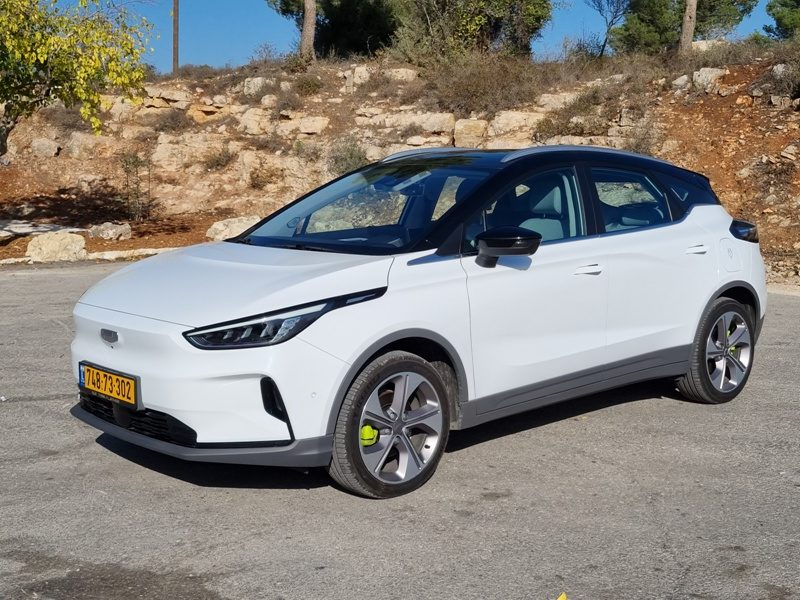licence: (78, 358, 145, 412)
